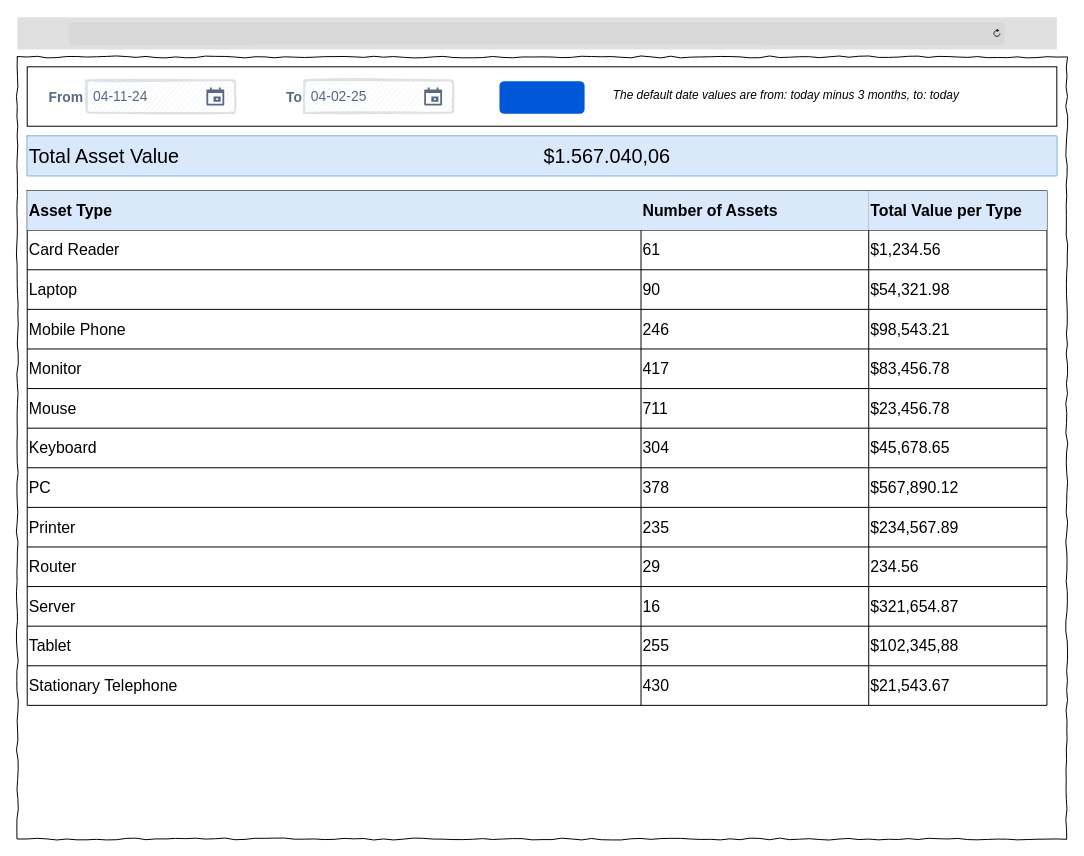
Image size: 1084x856. Some labels were removed from this diagram. Each missing label, with the centre of its shape:
"Apply" belongs at pixel 541 97.
"companyitassets/reports/hardwareassets" belongs at pixel 536 33.
